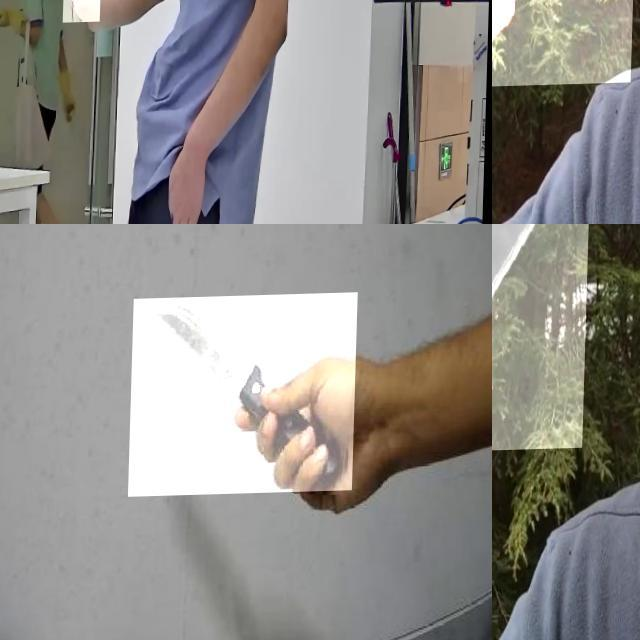-: (130, 296, 360, 499), (492, 0, 640, 180), (492, 224, 597, 454)
gun-knife-thesis - v11 Yolov5 augmented: (64, 0, 104, 73)
